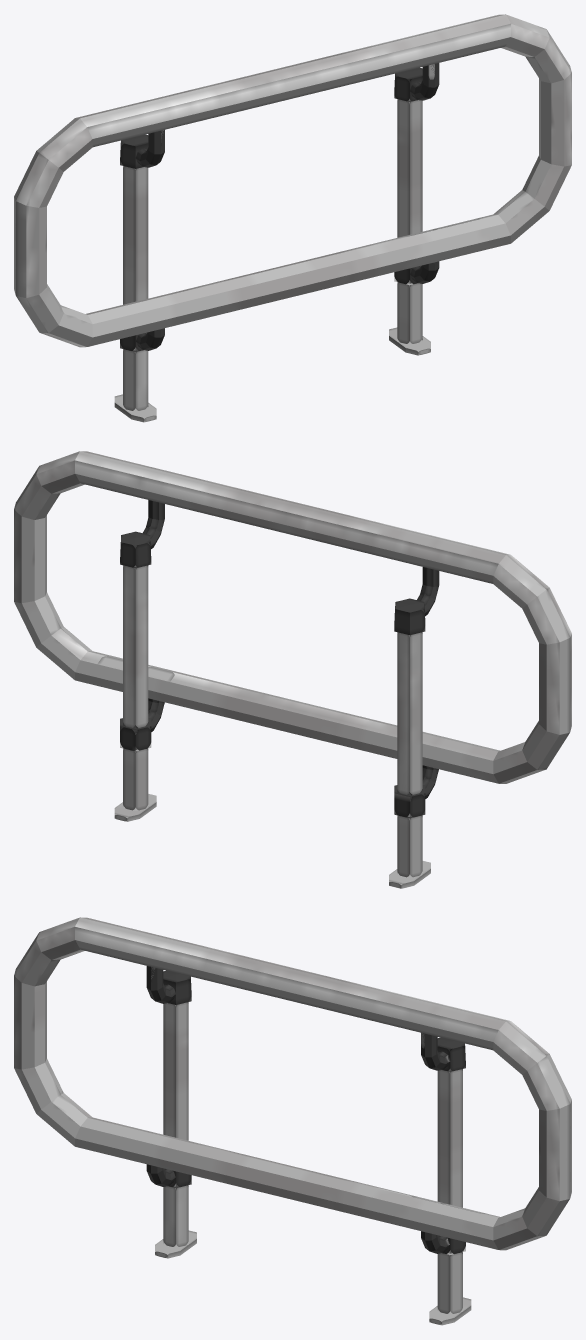
The model's file is MetalBarrier.fbx.
The picture shows the model from 3 angles, top to bottom: view 1: azimuth 30°, elevation 25°; view 2: azimuth 150°, elevation 25°; view 3: azimuth 330°, elevation 25°; orthographic projection.
Visible parts, largest first — view 1: MetalBarrier; view 2: MetalBarrier; view 3: MetalBarrier.
Boxes of the visible parts, x1,y1,x2,y2 form: MetalBarrier: [14, 14, 571, 422]; MetalBarrier: [14, 451, 571, 888]; MetalBarrier: [14, 917, 571, 1325].
Bounding box in the file's own units: 238 × 133 × 32.41.
Materials: 1 (1 with a texture image).
